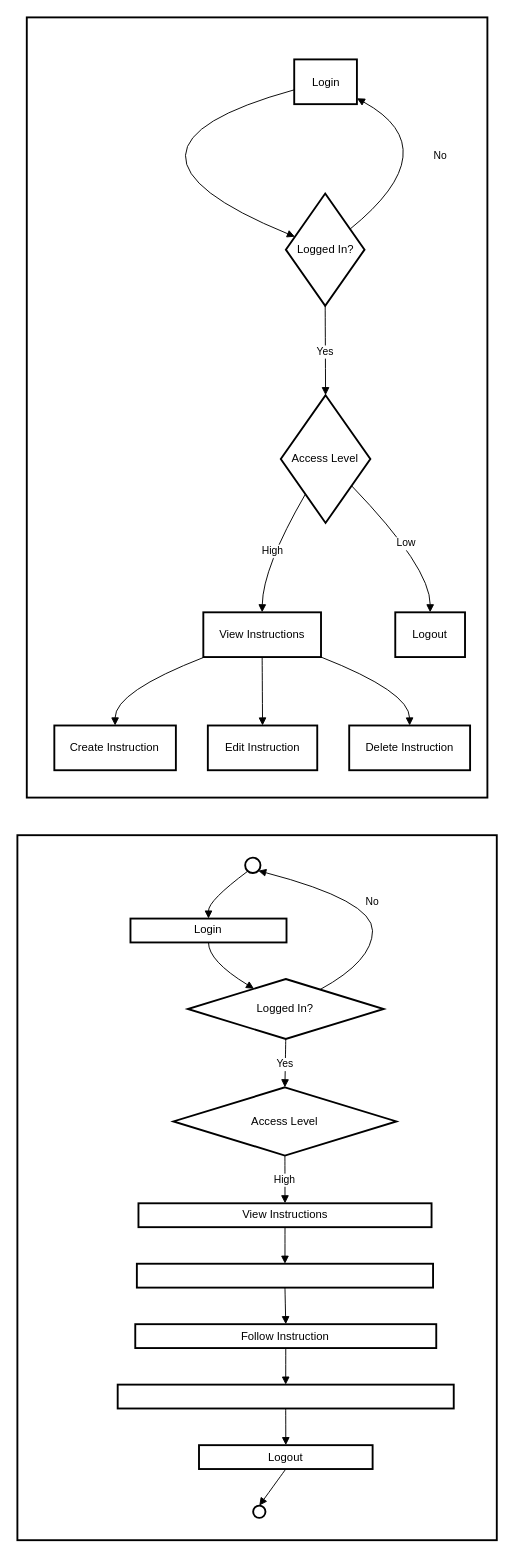
Some shapes in this 513 by 1557 pixel diagram are drawn without their labels. Each missing label, with the box of its shape:
Admin: (25, 16, 488, 798)
Complete Instruction: (116, 1383, 454, 1409)
End: (252, 1504, 266, 1518)
Select Instruction: (135, 1262, 434, 1288)
Start: (244, 856, 261, 873)
User: (16, 834, 497, 1541)
